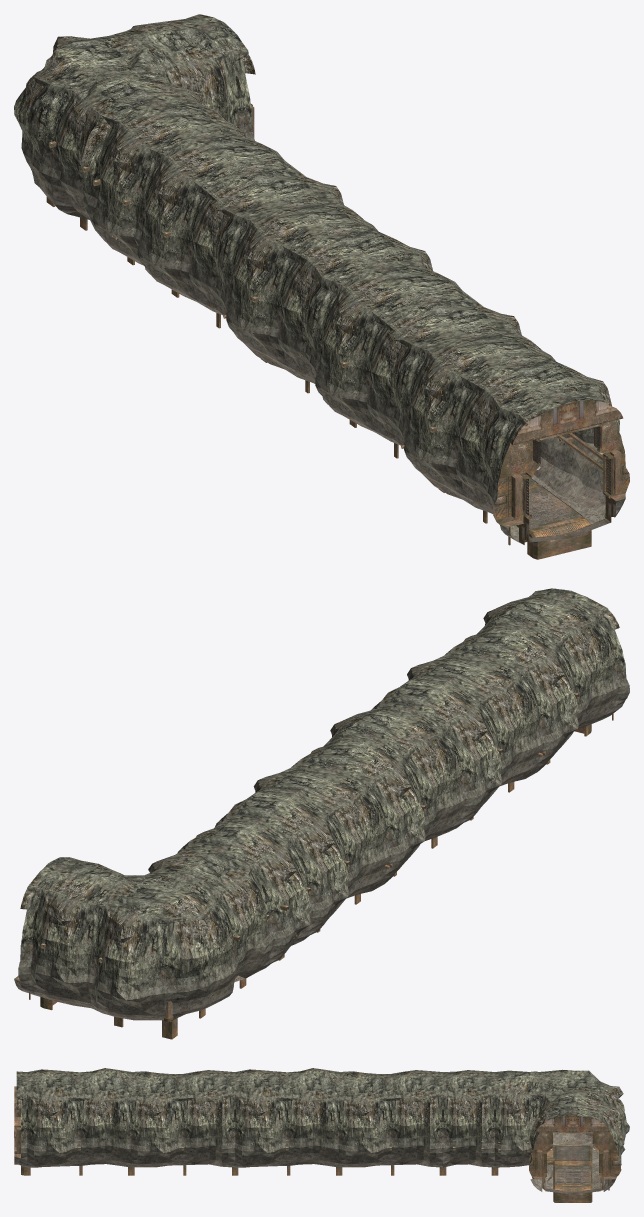
The model's file is poi_all_bunker_allum_mine_r63_hall63_mesh_r63.fbx.
3 renders of one model, top to bottom at view 1: azimuth 30°, elevation 25°; view 2: azimuth 150°, elevation 25°; view 3: azimuth 270°, elevation 25°, orthographic. The views are drawn at different scales.
Visible parts, largest first — view 1: mesh_node; view 2: mesh_node; view 3: mesh_node.
Boxes of the visible parts, x1,y1,x2,y2 form: mesh_node: [14, 14, 629, 559]; mesh_node: [14, 588, 629, 1039]; mesh_node: [14, 1068, 629, 1202].
Size of the model in its own units: 11.06 by 7.73 by 47.42.
